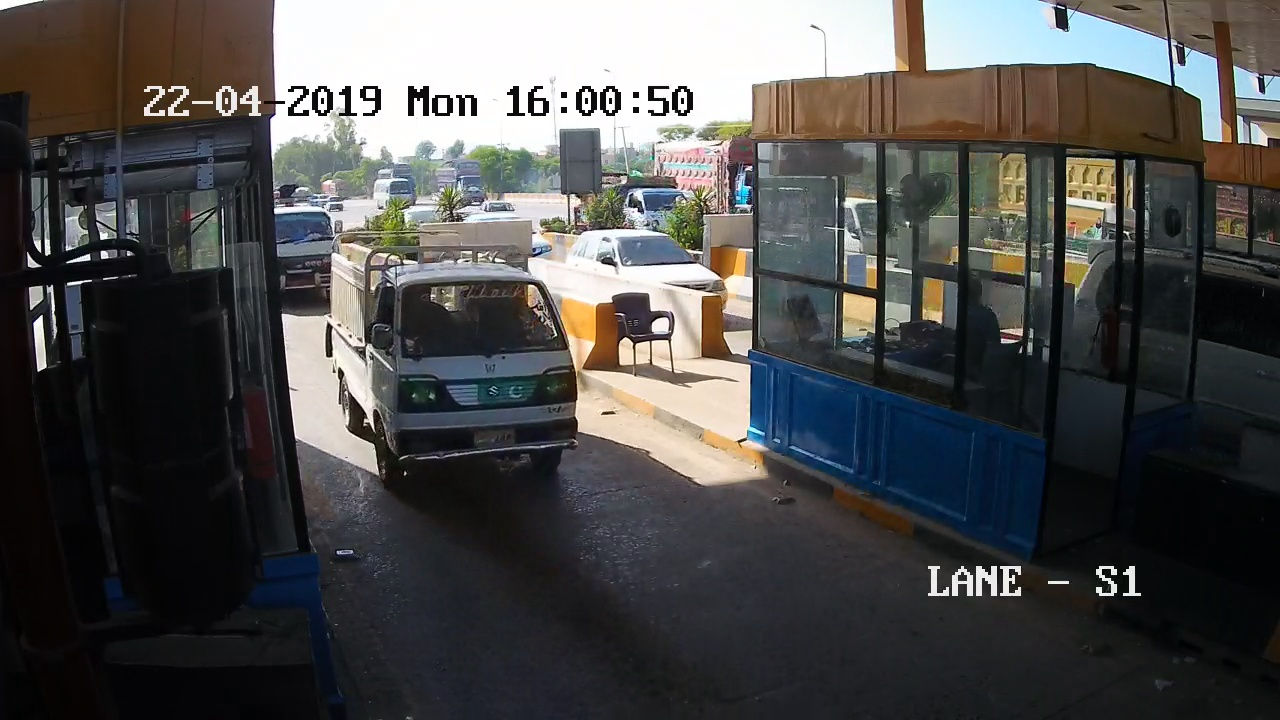car: (323, 226, 610, 509)
